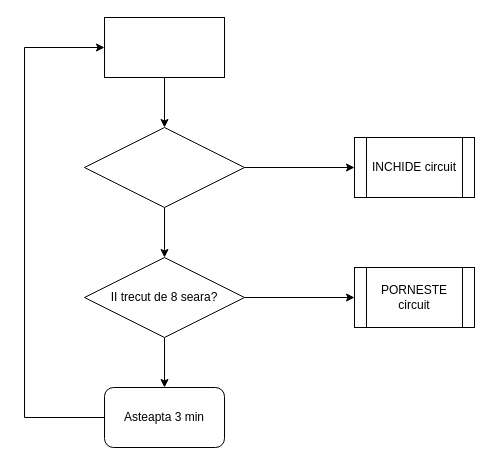
Image size: 492x465. Some labels were removed from this diagram. The box of each missing label's shape, as (x1, y1, x2, y2) in pixels:
II trecut de 7 dimineata?: (84, 126, 244, 208)
START: (104, 16, 224, 78)
